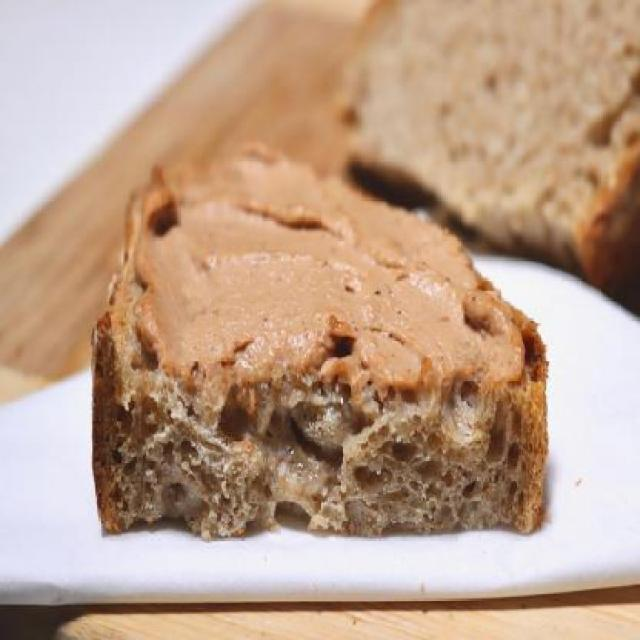Spread: (143, 159, 528, 399)
